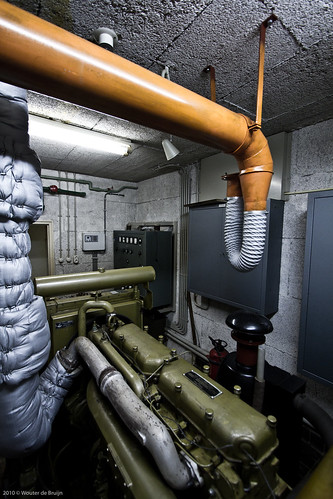motor: (45, 276, 333, 499)
